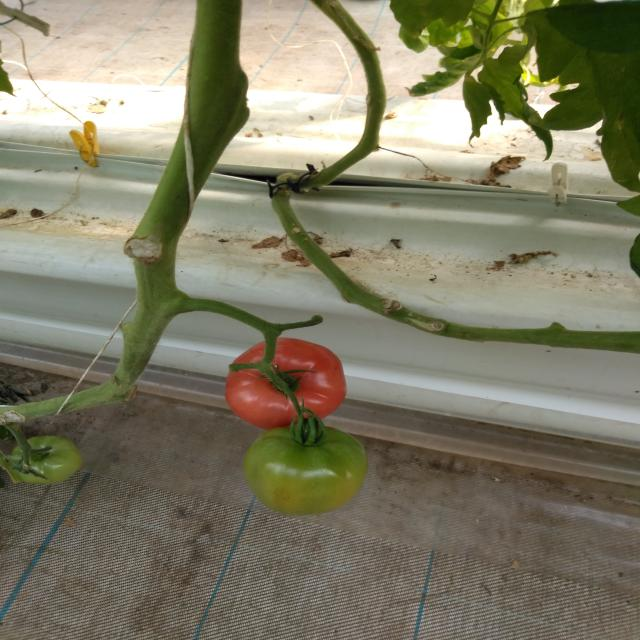n-riped: (224, 337, 347, 431)
n-unriped: (244, 424, 368, 516), (9, 436, 82, 485)
